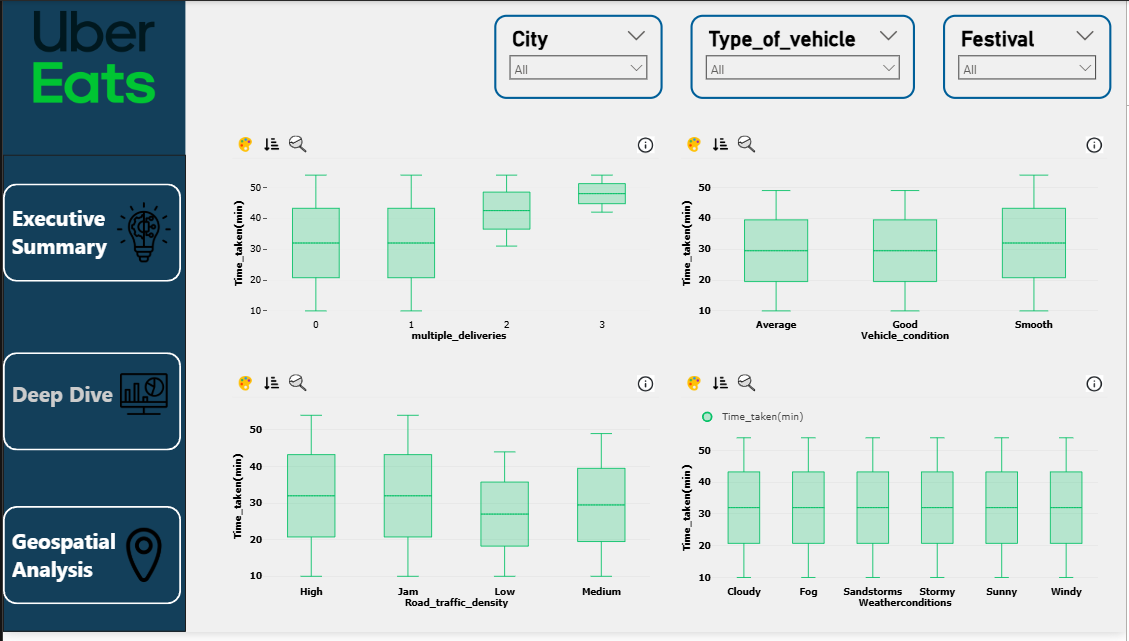

Layout of this report page (visuals, bound fields, positions):
{"tool":"powerbi","page":{"name":"Deep Dive","canvas":[1280,720],"ordinal":1},"visuals":[{"type":"boxandwhiskerwithpoints3B3DF5C11B683E5DB4E630DD7899B035","fields":{"col_2":["cleaned_delivery_data.Time_taken(min)"],"col_0":["cleaned_delivery_data.Road_traffic_density"]},"box":[256,416,496,288],"z":0},{"type":"boxandwhiskerwithpoints3B3DF5C11B683E5DB4E630DD7899B035","fields":{"col_2":["cleaned_delivery_data.Time_taken(min)"],"col_0":["cleaned_delivery_data.Weatherconditions"]},"box":[768,416,496,288],"z":1000},{"type":"boxandwhiskerwithpoints3B3DF5C11B683E5DB4E630DD7899B035","fields":{"col_2":["cleaned_delivery_data.Time_taken(min)"],"col_0":["cleaned_delivery_data.multiple_deliveries"]},"box":[256,144,496,256],"z":2000},{"type":"boxandwhiskerwithpoints3B3DF5C11B683E5DB4E630DD7899B035","fields":{"col_2":["cleaned_delivery_data.Time_taken(min)"],"col_0":["cleaned_delivery_data.Vehicle_condition"]},"box":[768,144,496,256],"z":3000},{"type":"slicer","fields":{"Values":["cleaned_delivery_data.Type_of_vehicle"]},"box":[784,16,256,96],"z":4000},{"type":"slicer","fields":{"Values":["cleaned_delivery_data.Festival"]},"box":[1072,16,192,96],"z":5000},{"type":"slicer","fields":{"Values":["cleaned_delivery_data.City"]},"box":[560,16,192,96],"z":6000},{"type":"shape","box":[0,0,208,720],"z":7000},{"type":"image","box":[0,0,208,128],"z":8000},{"type":"pageNavigator","box":[0,176,208,544],"z":9000},{"type":"shape","box":[0,208,203,112],"z":10000},{"type":"shape","box":[0,576,203,112],"z":11000},{"type":"shape","box":[0,400,203,112],"z":12000},{"type":"image","box":[112,224,96,80],"z":13000},{"type":"image","box":[112,416,96,64],"z":14000},{"type":"image","box":[112,592,96,80],"z":14001}]}

Visuals, with their boxes in screenshot pixels (x1, y1, x2, y2), scaled from the page's 1280x720 canvas onto the 1129x641 screenshot:
boxandwhiskerwithpoints3B3DF5C11B683E5DB4E630DD7899B035 - cleaned_delivery_data.Time_taken(min) x cleaned_delivery_data.Road_traffic_density: {"x1": 226, "y1": 370, "x2": 663, "y2": 627}
boxandwhiskerwithpoints3B3DF5C11B683E5DB4E630DD7899B035 - cleaned_delivery_data.Time_taken(min) x cleaned_delivery_data.Weatherconditions: {"x1": 677, "y1": 370, "x2": 1115, "y2": 627}
boxandwhiskerwithpoints3B3DF5C11B683E5DB4E630DD7899B035 - cleaned_delivery_data.Time_taken(min) x cleaned_delivery_data.multiple_deliveries: {"x1": 226, "y1": 128, "x2": 663, "y2": 356}
boxandwhiskerwithpoints3B3DF5C11B683E5DB4E630DD7899B035 - cleaned_delivery_data.Time_taken(min) x cleaned_delivery_data.Vehicle_condition: {"x1": 677, "y1": 128, "x2": 1115, "y2": 356}
slicer - cleaned_delivery_data.Type_of_vehicle: {"x1": 692, "y1": 14, "x2": 917, "y2": 100}
slicer - cleaned_delivery_data.Festival: {"x1": 946, "y1": 14, "x2": 1115, "y2": 100}
slicer - cleaned_delivery_data.City: {"x1": 494, "y1": 14, "x2": 663, "y2": 100}
shape: {"x1": 0, "y1": 0, "x2": 183, "y2": 640}
image: {"x1": 0, "y1": 0, "x2": 183, "y2": 114}
pageNavigator: {"x1": 0, "y1": 157, "x2": 183, "y2": 640}
shape: {"x1": 0, "y1": 185, "x2": 179, "y2": 285}
shape: {"x1": 0, "y1": 513, "x2": 179, "y2": 613}
shape: {"x1": 0, "y1": 356, "x2": 179, "y2": 456}
image: {"x1": 99, "y1": 199, "x2": 183, "y2": 271}
image: {"x1": 99, "y1": 370, "x2": 183, "y2": 427}
image: {"x1": 99, "y1": 527, "x2": 183, "y2": 598}
